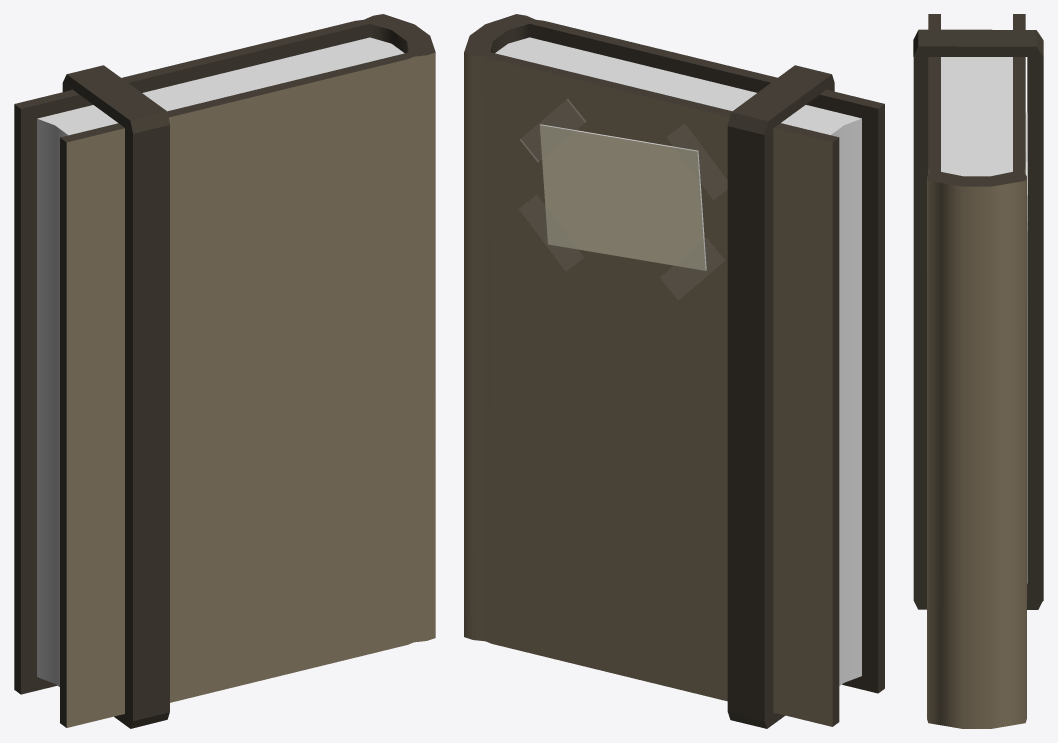
File: Notebook.fbx
The picture shows the model from 3 angles, left to right: view 1: azimuth 30°, elevation 25°; view 2: azimuth 150°, elevation 25°; view 3: azimuth 270°, elevation 25°; orthographic projection. The views are drawn at different scales.
Visible parts, largest first — view 1: Cube; view 2: Cube; view 3: Cube.
Part boxes in pixels (box(x1,y1,x2,y2)): Cube: box(14, 14, 435, 728); Cube: box(464, 14, 884, 728); Cube: box(913, 14, 1043, 728).
Size of the model in its own units: 94.07 by 143 by 30.05.
